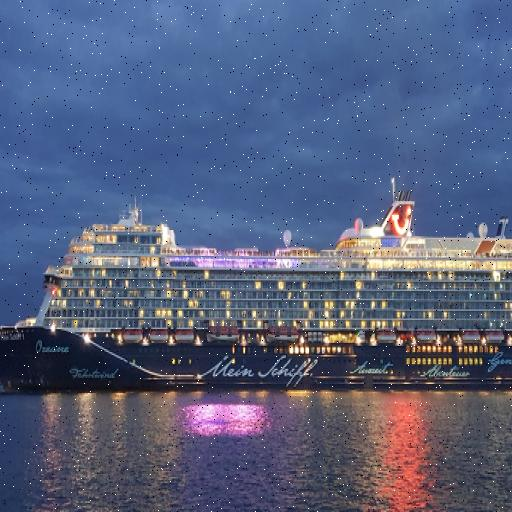cruises: (1, 172, 512, 397)
